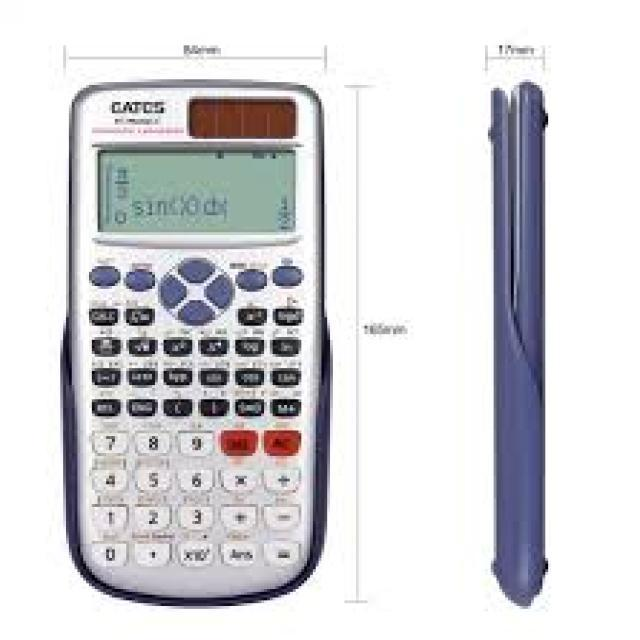Calculator: (65, 79, 338, 604)
